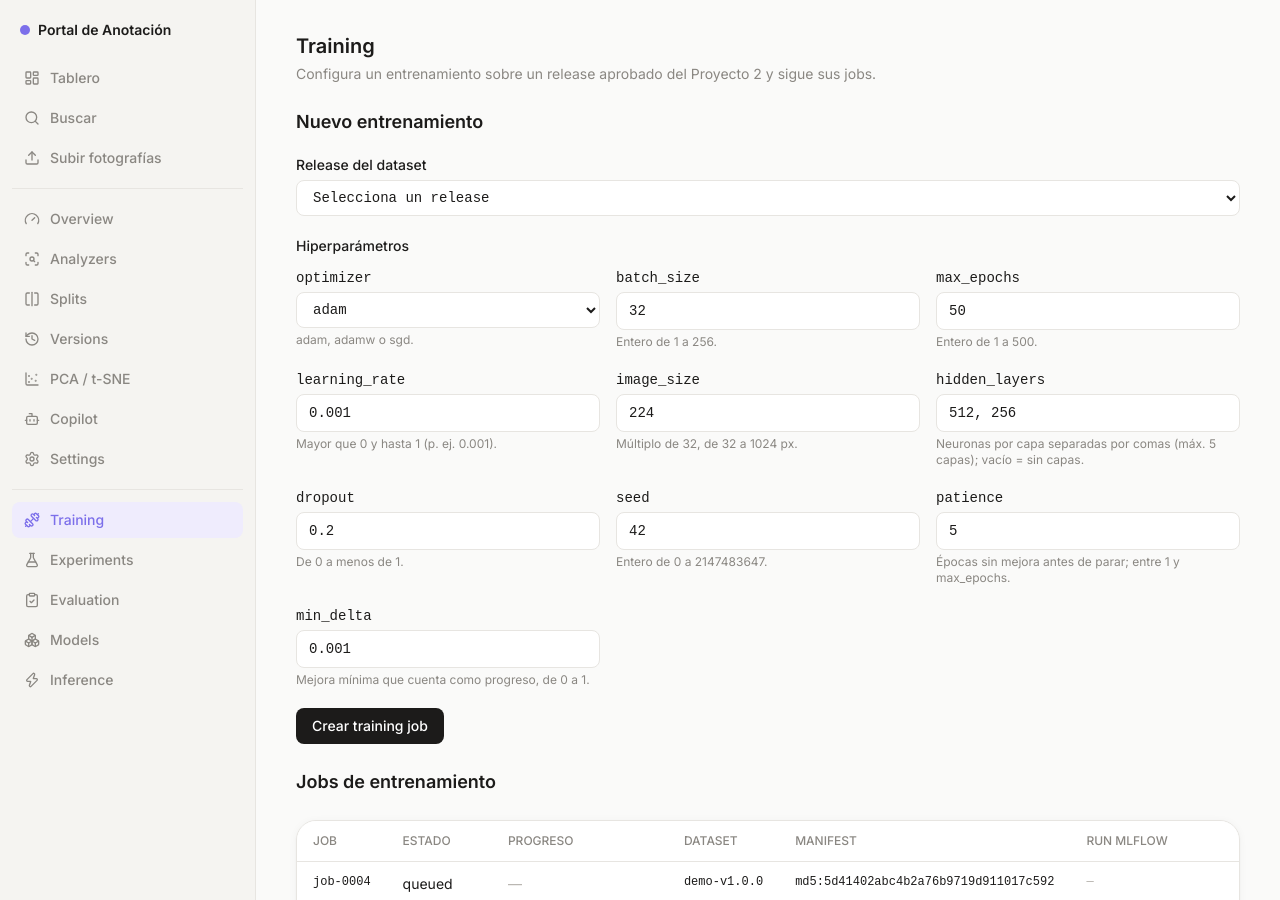
Test case: APP-02 release del Proyecto 2 › muestra el manifiesto 70/20/10 cuando existe
Select "v0.1.1" in the dropdown labelled "Release del dataset" at [768, 198], box x1=296 y1=180 x2=1240 y2=216
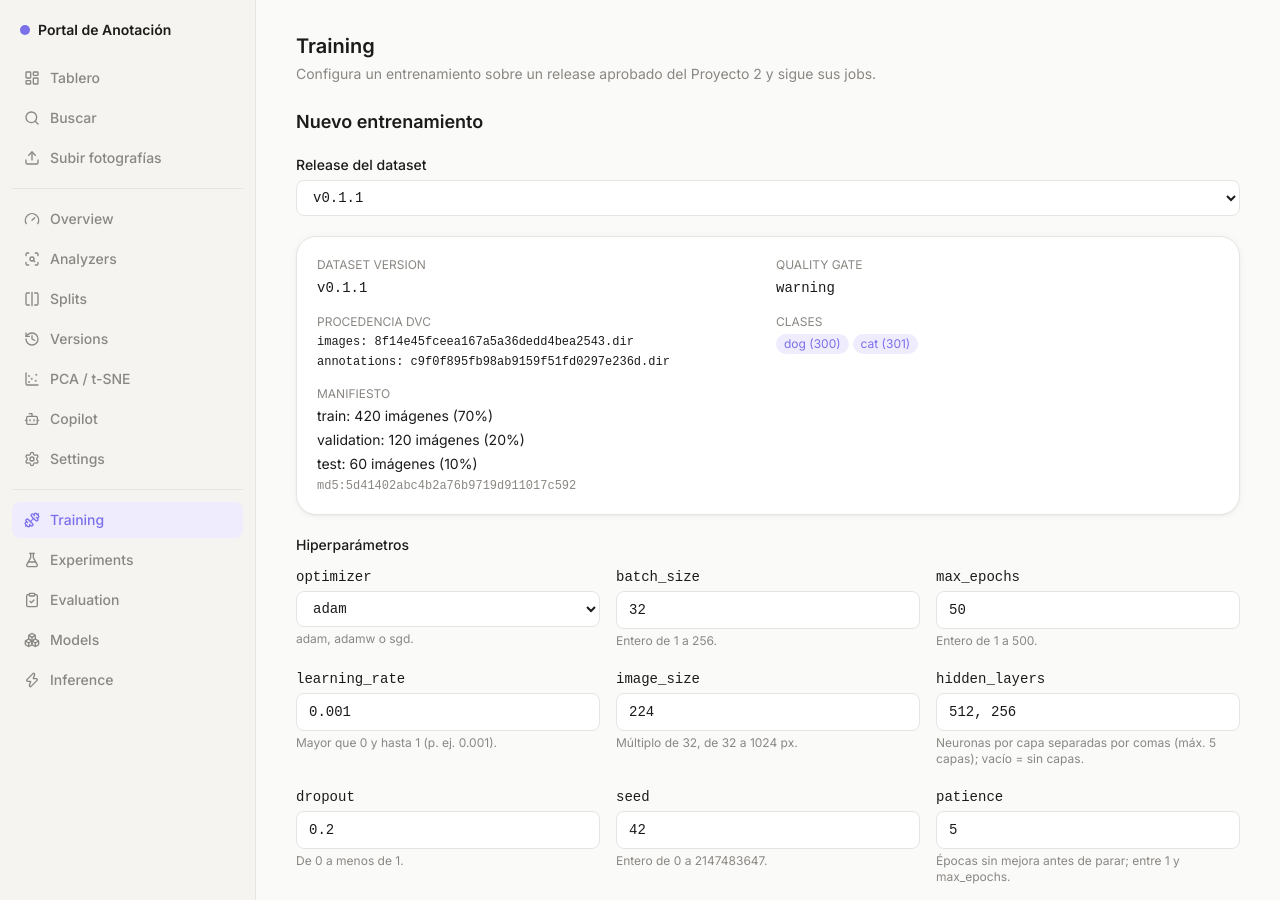
Check: the list item "train: 420 imágenes (70%)" is shown, box x1=317 y1=407 x2=493 y2=424
Check: the list item "validation: 120 imágenes (20%)" is shown, box x1=317 y1=431 x2=525 y2=448
Check: the list item "test: 60 imágenes (10%)" is shown, box x1=317 y1=455 x2=478 y2=472
